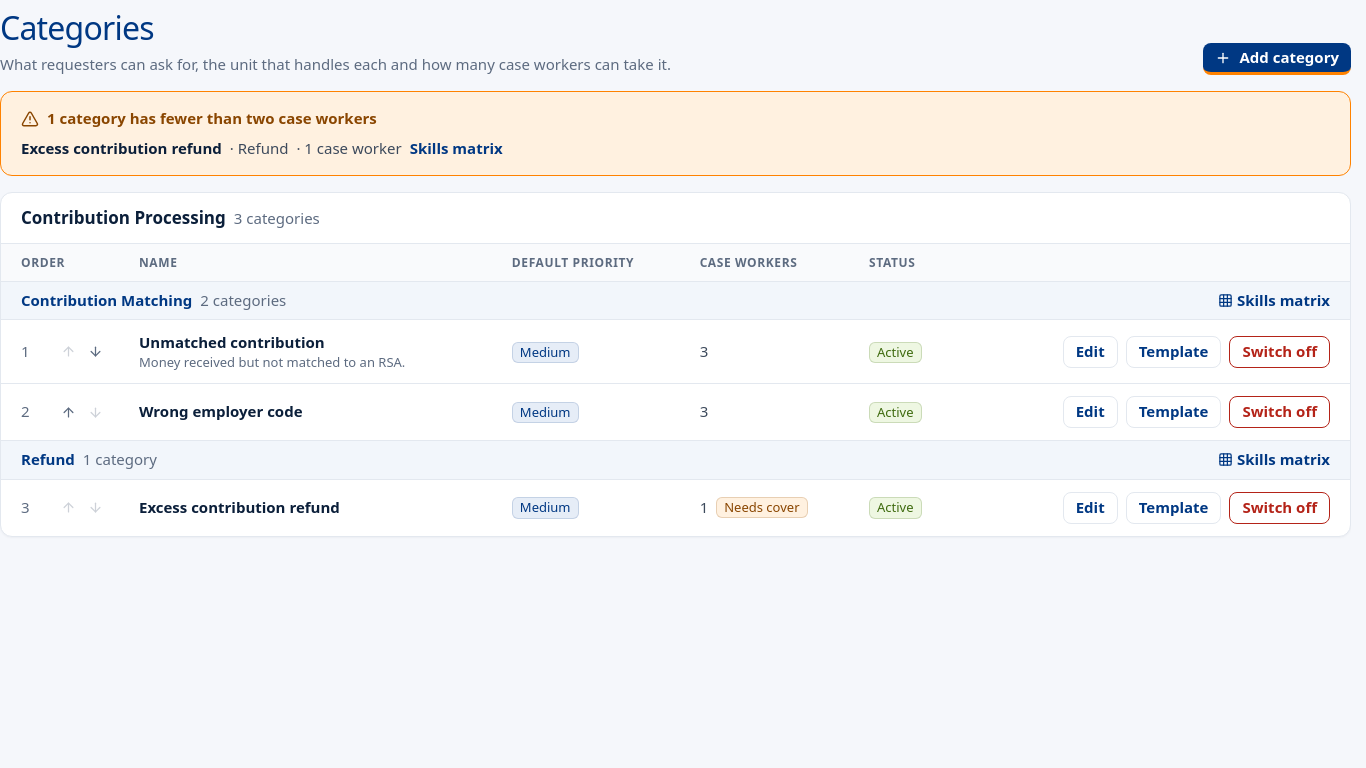
Scenario: Categories page › warns before saving when the unit changes, then sends only the changes
Click the button with aria-label "Edit Wrong employer code" at coordinates (1090, 412), box [1063,396,1118,428]
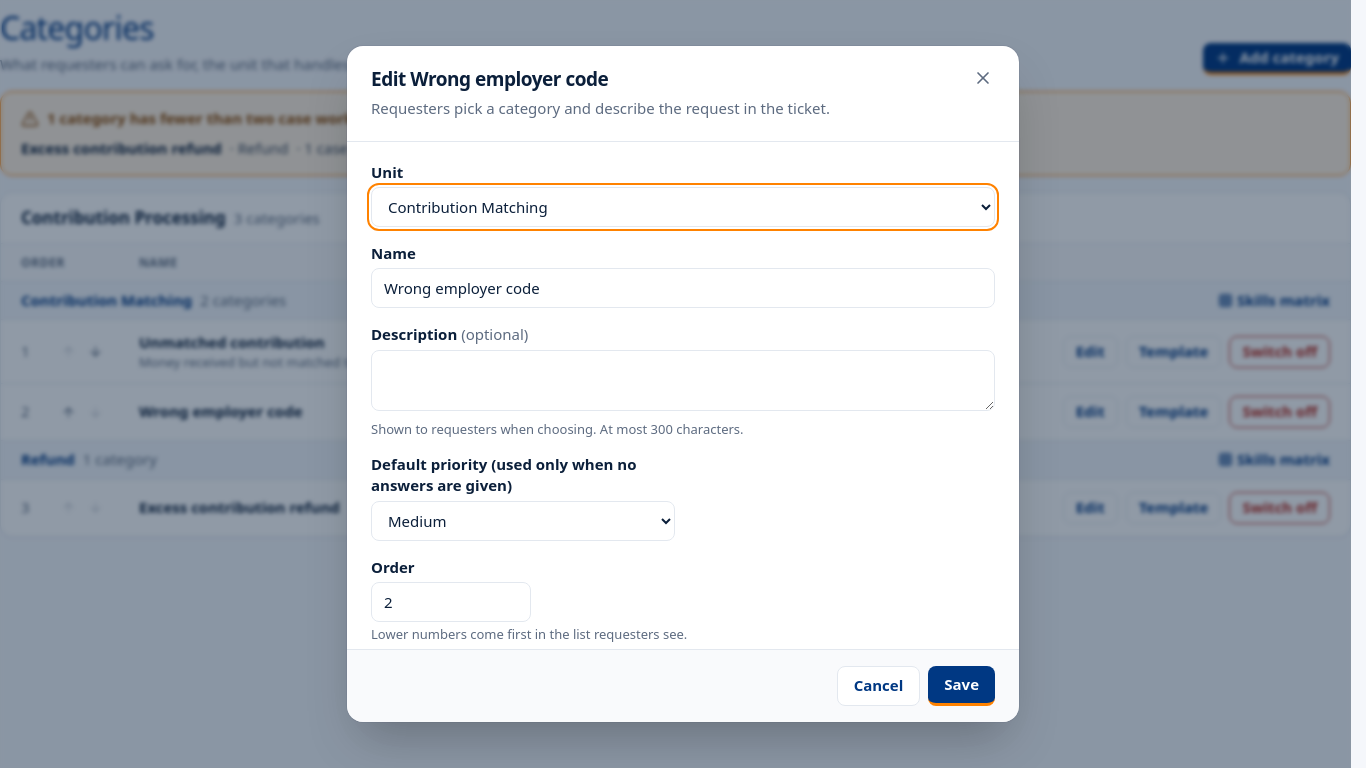
Result: the number field labelled "Order" holds "2" at [371,582,531,622]
Select "Refund" in the dropdown labelled "Unit" at coordinates (683, 207), box [371,187,995,227]
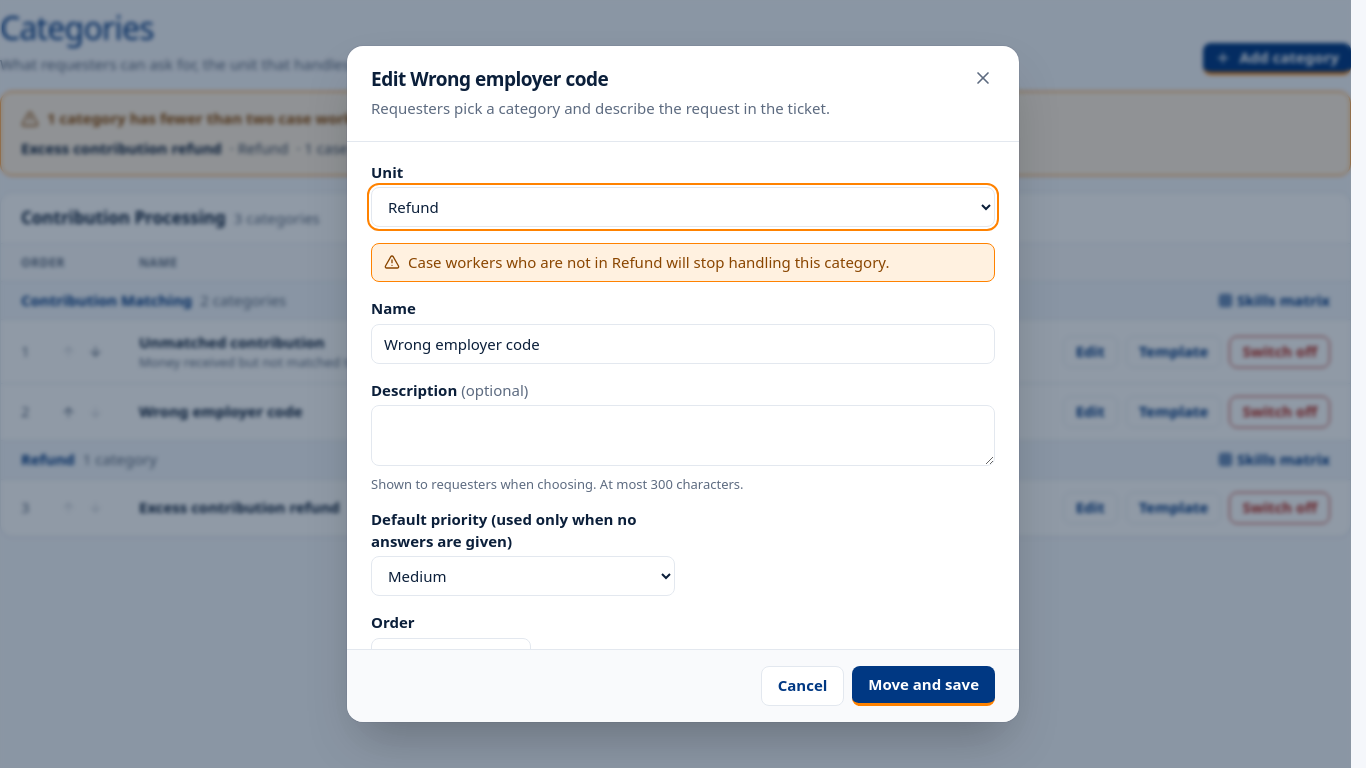
Result: the element with test id "move-warning" reads "Case workers who are not in Refund will stop handling this category." at [371,243,995,282]
Click the button "Move and save" at coordinates (924, 686), box [852,666,995,706]
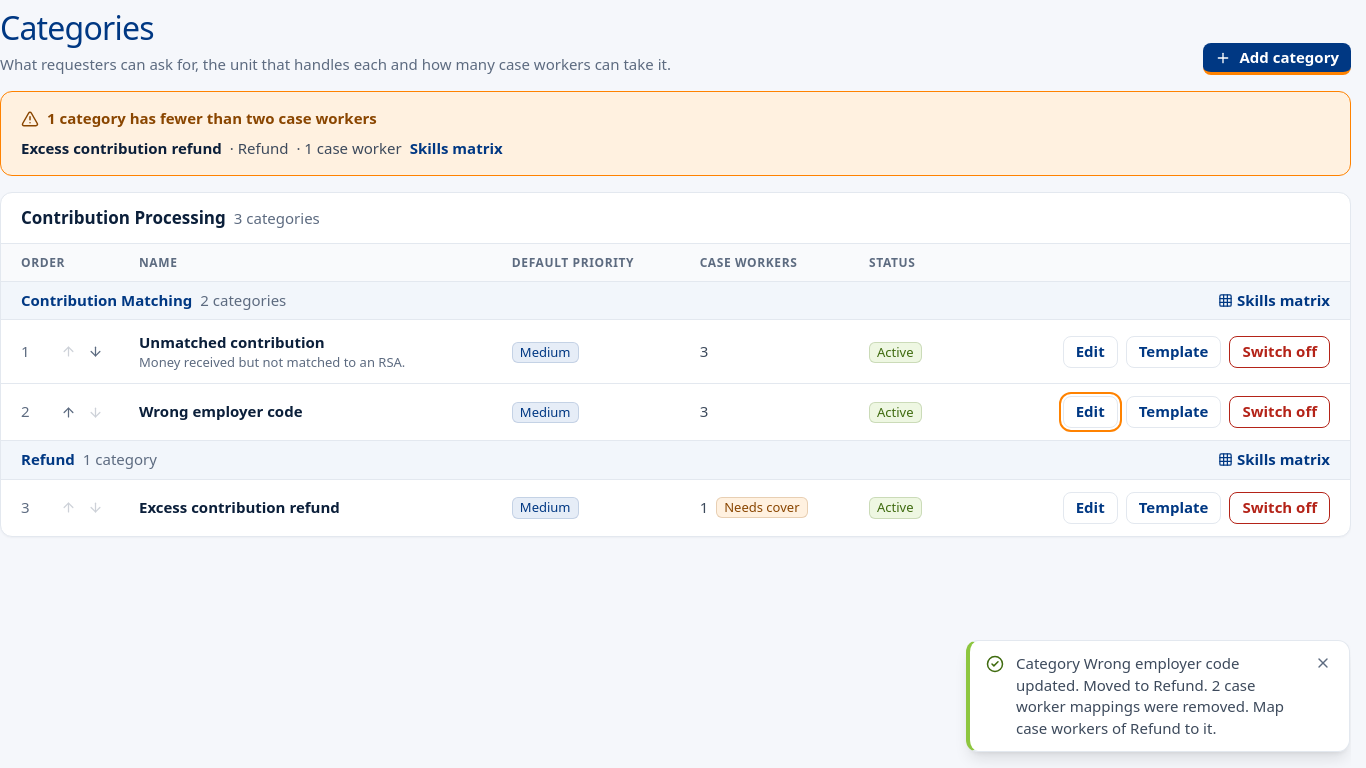
Result: the text "2 case worker mappings were removed" is shown at [1016,653,1284,738]
